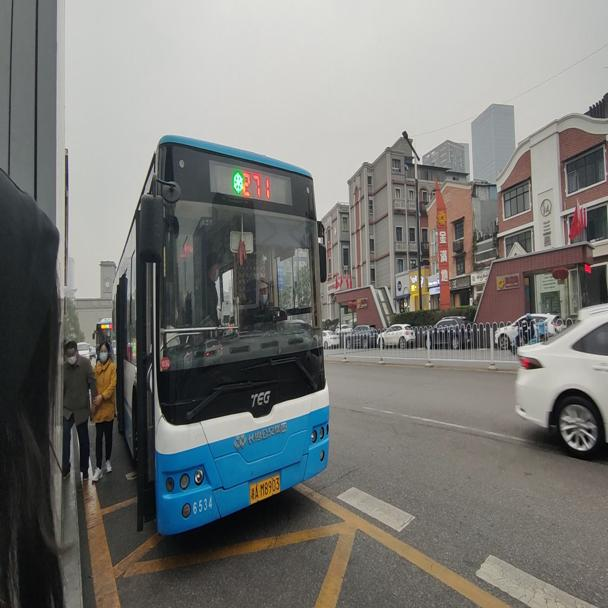bus: (109, 131, 332, 540)
screen: (241, 166, 272, 202)
